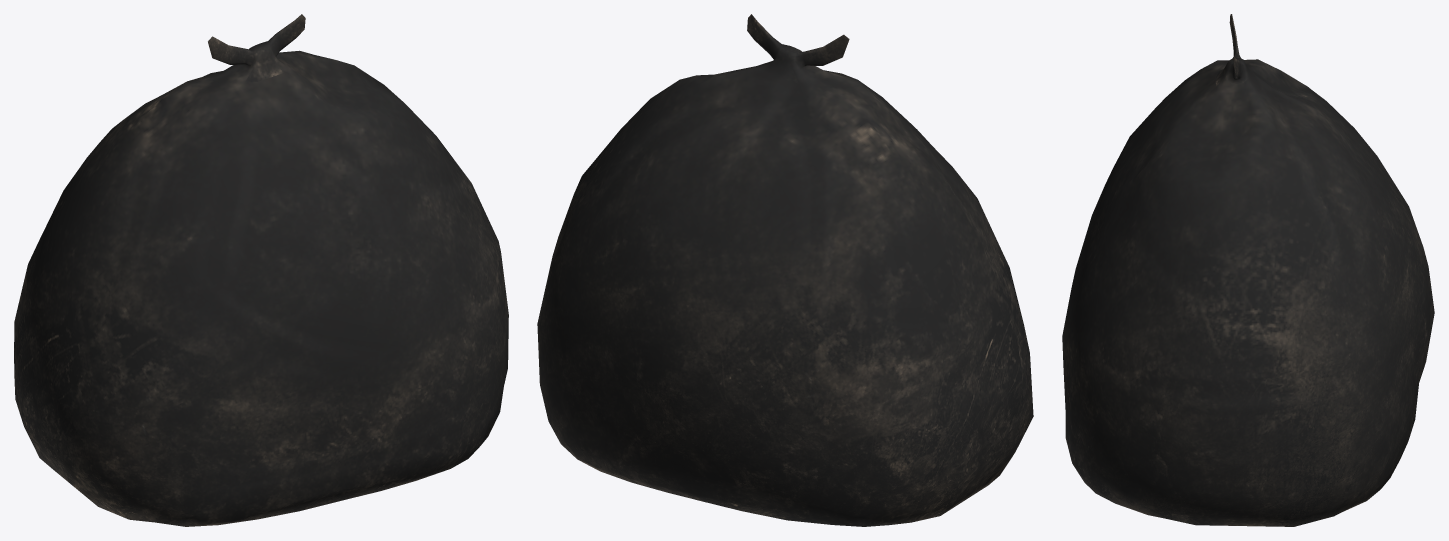
File: simple_trash_bag.glb
The picture shows the model from 3 angles, left to right: view 1: azimuth 30°, elevation 25°; view 2: azimuth 150°, elevation 25°; view 3: azimuth 270°, elevation 25°; orthographic projection. The views are drawn at different scales.
Parts seen in each view (by area): view 1: Object_3; view 2: Object_3; view 3: Object_3.
Boxes of the visible parts, <box> form: Object_3: <box>14,14,508,526</box>; Object_3: <box>537,14,1033,526</box>; Object_3: <box>1062,14,1434,526</box>.
Bounding box in the file's own units: 7.82 × 7.57 × 6.16.
Materials: 1 (1 with a texture image).
